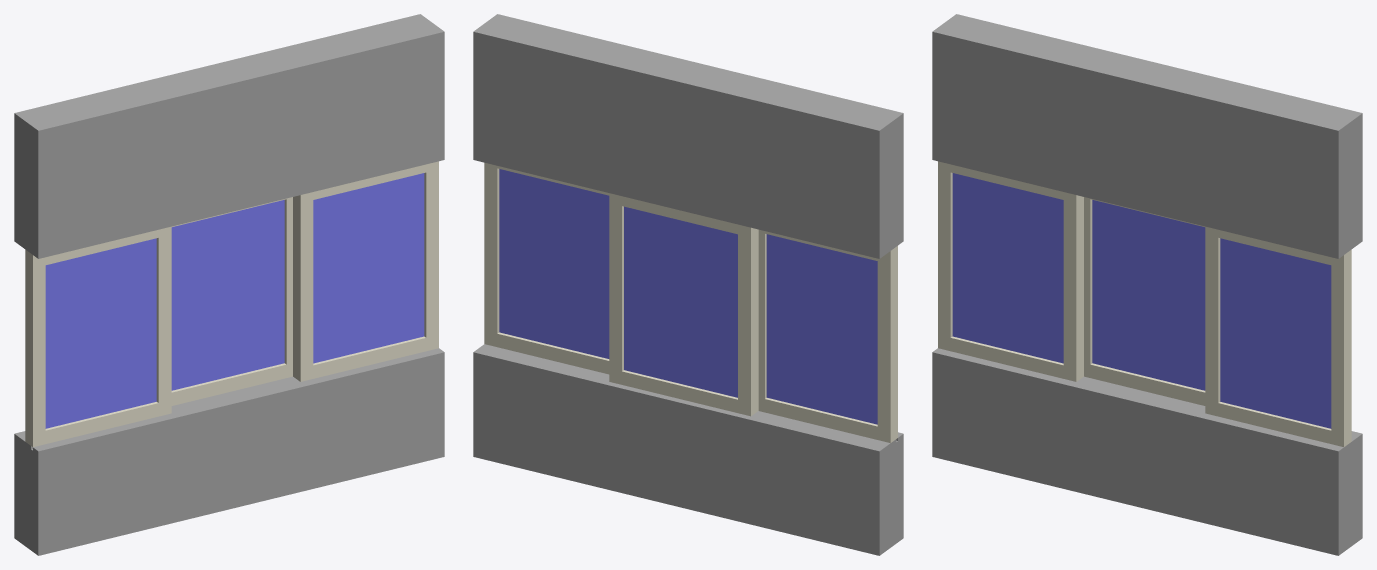
File: Operating_room_Window3-2-2.fbx
3 views of the same model, side by side, from view 1: azimuth 30°, elevation 25°; view 2: azimuth 150°, elevation 25°; view 3: azimuth 330°, elevation 25° (orthographic).
Visible parts, largest first — view 1: Operating room Window3-2-1.003, Operating room Window3-2-1.001, Operating room Window3-2-1, Operating room Window3-2-1.004, Operating room Window3-2-1.007, Operating room Window3-2-1.002, Operating room Window3-2-1.006, Operating room Window3-2-1.005; view 2: Operating room Window3-2-1.003, Operating room Window3-2-1.001, Operating room Window3-2-1, Operating room Window3-2-1.004, Operating room Window3-2-1.007, Operating room Window3-2-1.005, Operating room Window3-2-1.002, Operating room Window3-2-1.006; view 3: Operating room Window3-2-1.003, Operating room Window3-2-1.001, Operating room Window3-2-1, Operating room Window3-2-1.007, Operating room Window3-2-1.004, Operating room Window3-2-1.006, Operating room Window3-2-1.002, Operating room Window3-2-1.005.
Boxes of the visible parts, x1=… form: Operating room Window3-2-1.003: x1=14, y1=14, x2=444, y2=258; Operating room Window3-2-1.001: x1=14, y1=348, x2=444, y2=555; Operating room Window3-2-1: x1=171, y1=200, x2=284, y2=390; Operating room Window3-2-1.004: x1=45, y1=238, x2=156, y2=428; Operating room Window3-2-1.007: x1=313, y1=173, x2=424, y2=363; Operating room Window3-2-1.002: x1=25, y1=226, x2=171, y2=446; Operating room Window3-2-1.006: x1=293, y1=161, x2=438, y2=381; Operating room Window3-2-1.005: x1=171, y1=197, x2=292, y2=405; Operating room Window3-2-1.003: x1=473, y1=14, x2=903, y2=258; Operating room Window3-2-1.001: x1=473, y1=344, x2=903, y2=555; Operating room Window3-2-1: x1=624, y1=206, x2=737, y2=397; Operating room Window3-2-1.004: x1=766, y1=234, x2=877, y2=424; Operating room Window3-2-1.007: x1=499, y1=169, x2=609, y2=358; Operating room Window3-2-1.005: x1=609, y1=193, x2=758, y2=416; Operating room Window3-2-1.002: x1=758, y1=229, x2=897, y2=442; Operating room Window3-2-1.006: x1=484, y1=162, x2=609, y2=374; Operating room Window3-2-1.003: x1=932, y1=14, x2=1362, y2=258; Operating room Window3-2-1.001: x1=932, y1=348, x2=1362, y2=555; Operating room Window3-2-1: x1=1092, y1=200, x2=1205, y2=390; Operating room Window3-2-1.007: x1=1220, y1=238, x2=1331, y2=428; Operating room Window3-2-1.004: x1=952, y1=173, x2=1063, y2=363; Operating room Window3-2-1.006: x1=1205, y1=226, x2=1351, y2=446; Operating room Window3-2-1.002: x1=938, y1=161, x2=1083, y2=381; Operating room Window3-2-1.005: x1=1084, y1=197, x2=1205, y2=405.
Bounding box in the file's own units: 12.6 × 12.6 × 1.3.
